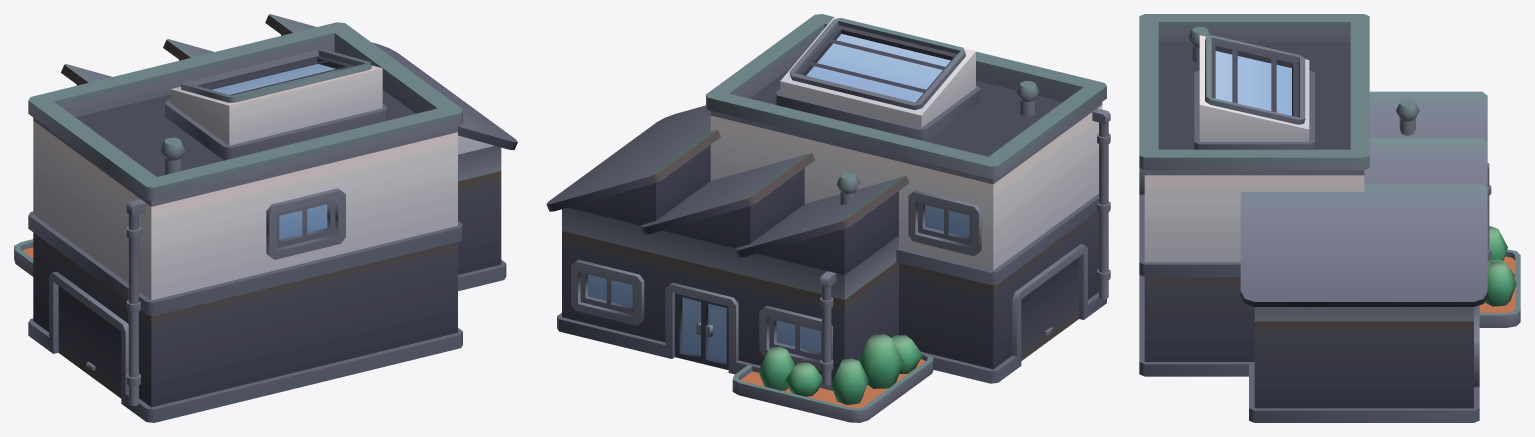
File: ind_building_t.glb
3 views of the same model, side by side, from view 1: azimuth 30°, elevation 25°; view 2: azimuth 150°, elevation 25°; view 3: azimuth 270°, elevation 25° (orthographic). The views are drawn at different scales.
Parts seen in each view (by area): view 1: building-t; view 2: building-t; view 3: building-t.
Boxes of the visible parts, box(x1,y1,x2,y2) form: building-t: box(14, 14, 517, 422); building-t: box(546, 14, 1110, 422); building-t: box(1139, 14, 1520, 422).
Size of the model in its own units: 1.72 by 1.01 by 1.39.
Materials: 1 (1 with a texture image).
